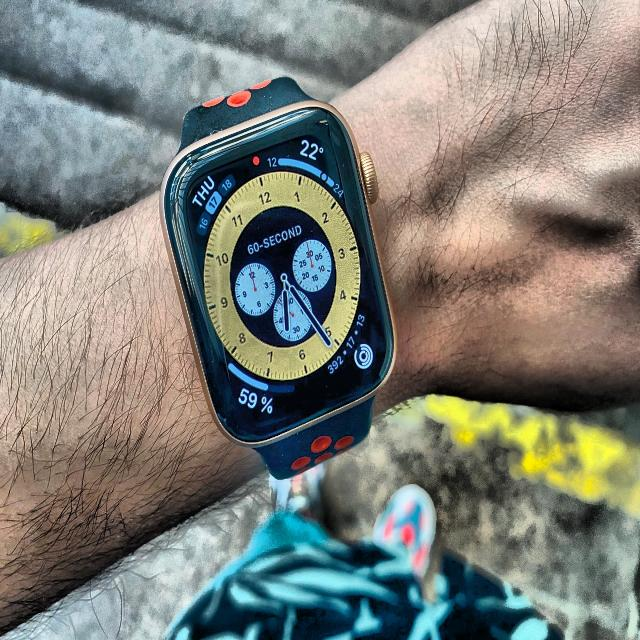Electronic watch: (160, 77, 395, 478)
